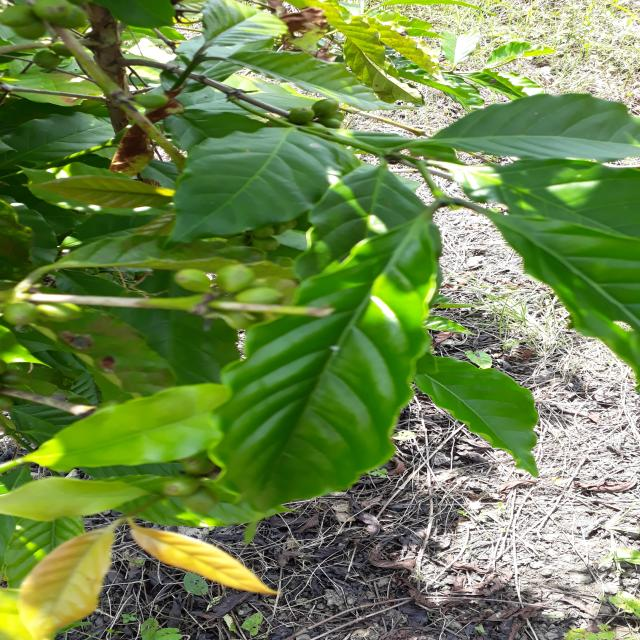Sanas: (169, 216, 442, 528)
